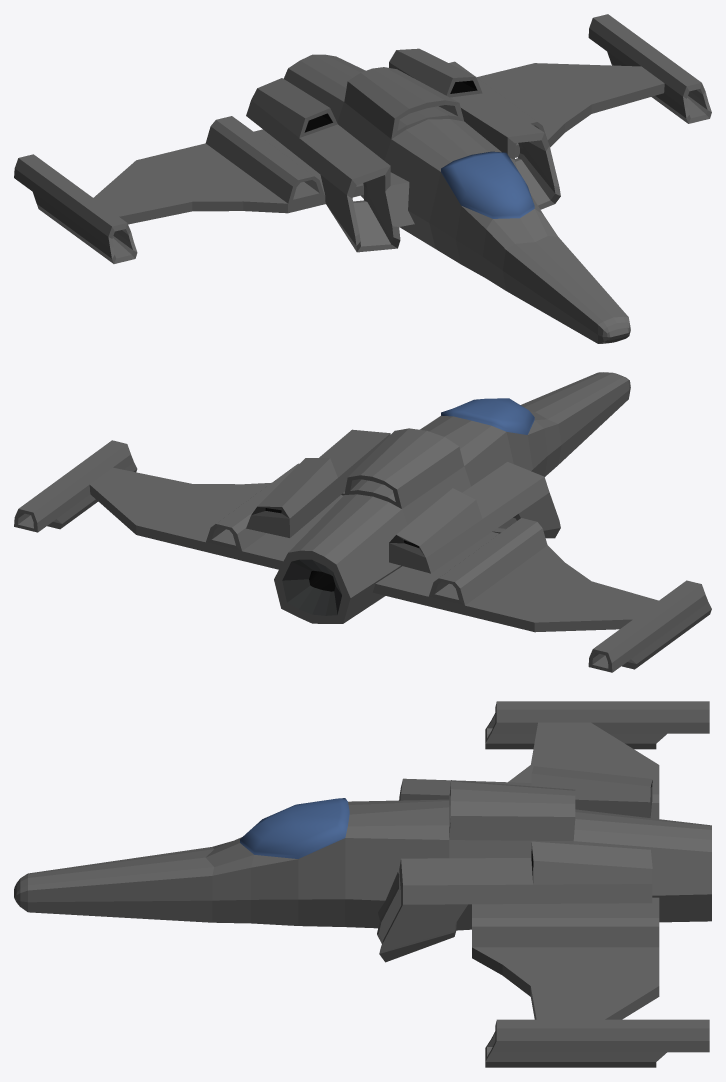
Rendered from FinalPlane3.fbx.
3 renders of one model, top to bottom at view 1: azimuth 30°, elevation 25°; view 2: azimuth 150°, elevation 25°; view 3: azimuth 270°, elevation 25°, orthographic. The views are drawn at different scales.
Parts seen in each view (by area): view 1: Spaceship3, Spaceship3.004; view 2: Spaceship3, Spaceship3.001, Spaceship3.003; view 3: Spaceship3.
Part boxes in pixels (x1=…): Spaceship3: x1=14, y1=14, x2=711, y2=343; Spaceship3.004: x1=304, y1=80, x2=477, y2=132; Spaceship3: x1=14, y1=372, x2=711, y2=672; Spaceship3.001: x1=282, y1=559, x2=341, y2=615; Spaceship3.003: x1=251, y1=506, x2=425, y2=557; Spaceship3: x1=14, y1=701, x2=711, y2=1067.
Size of the model in its own units: 1038 by 186 by 921.
